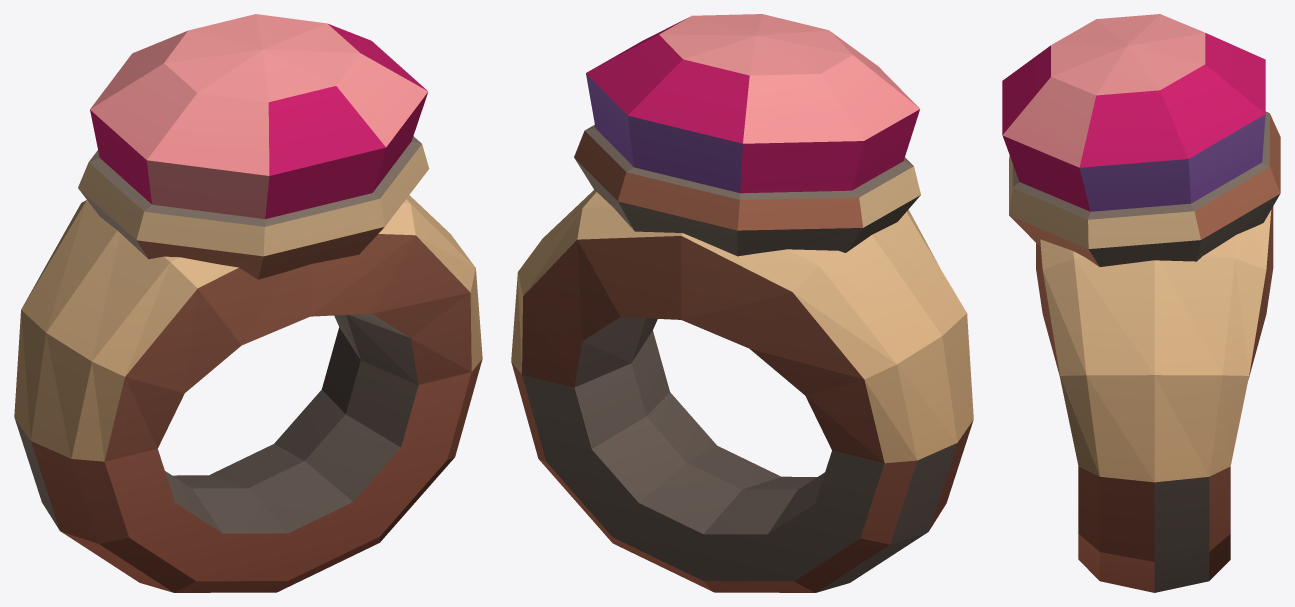
Rendered from ring_wood_garnet.glb.
3 renders of one model, left to right at view 1: azimuth 30°, elevation 25°; view 2: azimuth 150°, elevation 25°; view 3: azimuth 270°, elevation 25°, orthographic. The views are drawn at different scales.
Visible parts, largest first — view 1: model; view 2: model; view 3: model.
Boxes of the visible parts, box(x1,y1,x2,y2) form: model: box(14, 14, 482, 592); model: box(511, 14, 973, 592); model: box(1002, 14, 1280, 592).
Size of the model in its own units: 0.52 by 0.62 by 0.3.
1 material, 1 textured.
